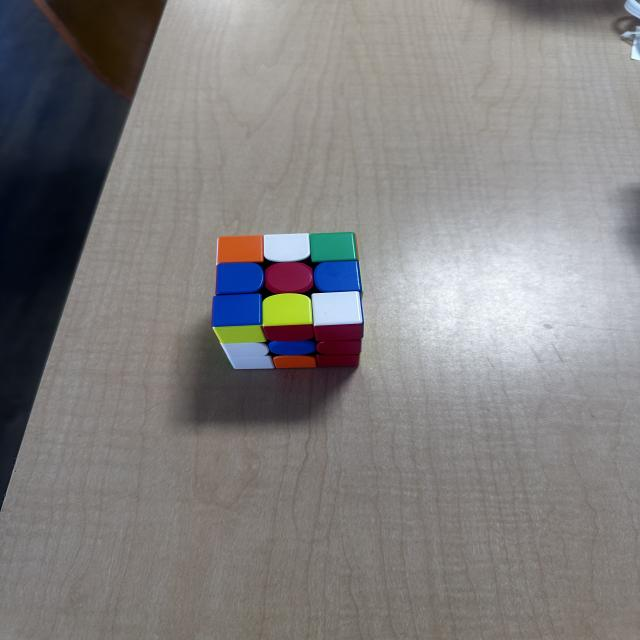sticker: (212, 293, 265, 330), (214, 261, 265, 297), (263, 261, 315, 296), (312, 260, 362, 294), (309, 232, 359, 264), (261, 232, 311, 264), (216, 235, 265, 265), (314, 294, 360, 323), (268, 296, 310, 323)
